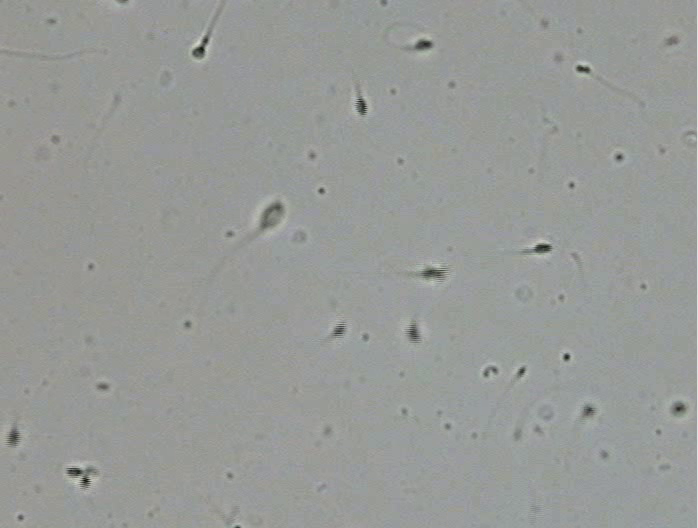S: (259, 201, 284, 229), (419, 266, 447, 282), (405, 324, 422, 344), (5, 429, 21, 448), (331, 322, 347, 339), (354, 97, 368, 116), (670, 402, 686, 416), (64, 467, 82, 479), (415, 39, 433, 51), (78, 476, 92, 491), (534, 243, 553, 254), (192, 45, 206, 59), (575, 64, 591, 74), (582, 405, 594, 416)
